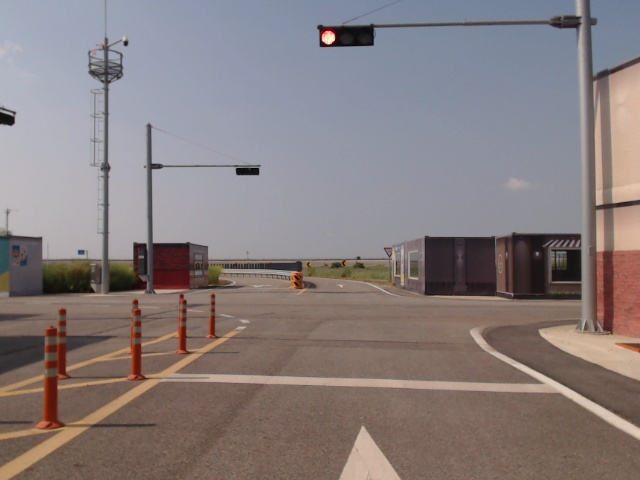red_3: (320, 29, 374, 47)
